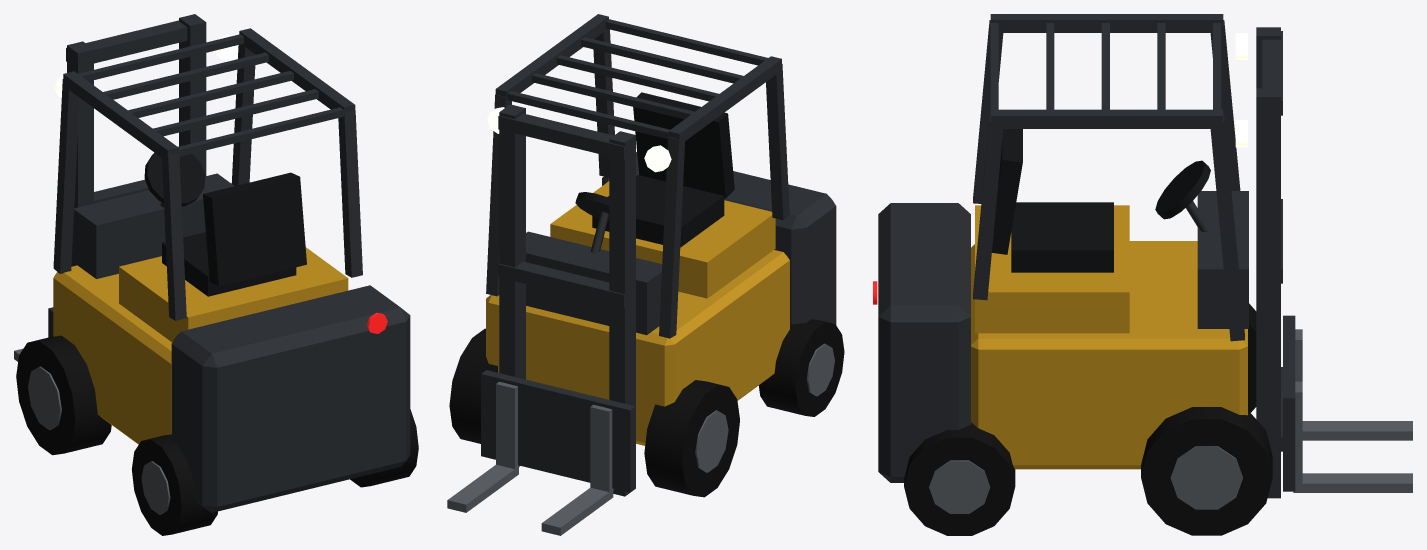
The model's file is gs-forklift.glb.
3 views of the same model, side by side, from view 1: azimuth 30°, elevation 25°; view 2: azimuth 150°, elevation 25°; view 3: azimuth 270°, elevation 25° (orthographic). The views are drawn at different scales.
Visible parts, largest first — view 1: gs-forklift; view 2: gs-forklift; view 3: gs-forklift.
Part boxes in pixels (x1,y1,x2,y2): gs-forklift: (14,14,418,535); gs-forklift: (447,14,844,535); gs-forklift: (873,14,1412,535).
Size of the model in its own units: 1.5 by 2.19 by 2.62.
